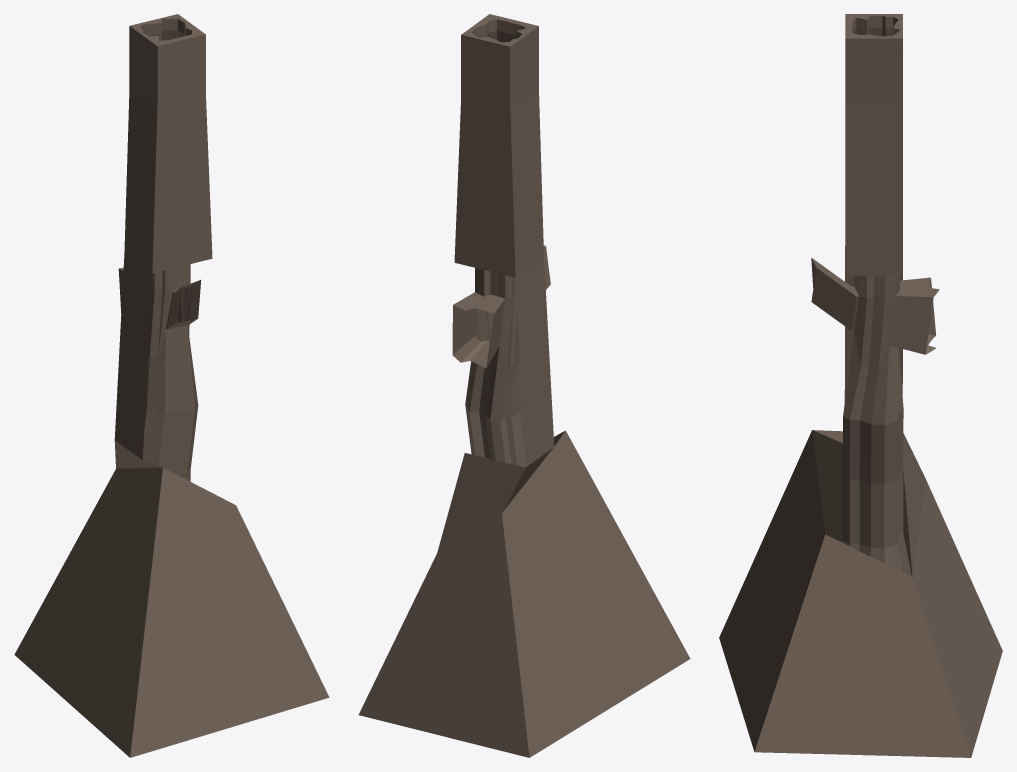
Rendered from CaveHole.fbx.
The picture shows the model from 3 angles, left to right: view 1: azimuth 30°, elevation 25°; view 2: azimuth 150°, elevation 25°; view 3: azimuth 270°, elevation 25°; orthographic projection. The views are drawn at different scales.
Parts seen in each view (by area): view 1: Cube; view 2: Cube; view 3: Cube.
Boxes of the visible parts, x1=… form: Cube: x1=14, y1=14, x2=329, y2=757; Cube: x1=358, y1=14, x2=690, y2=757; Cube: x1=719, y1=14, x2=1002, y2=757.
Size of the model in its own units: 893 by 2607 by 979.
